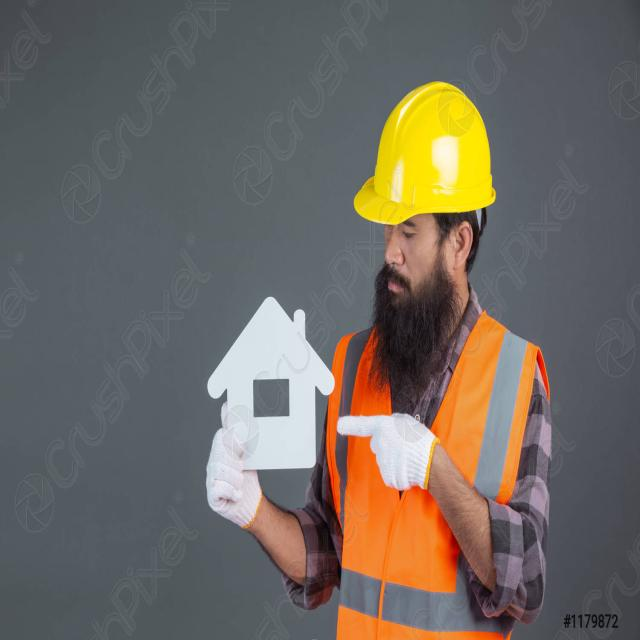helmet: (351, 78, 499, 238)
no-goggles: (366, 216, 477, 270)
vest: (324, 312, 554, 640)
